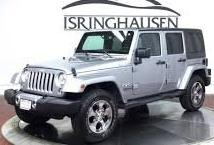SUV: (5, 30, 211, 142)
